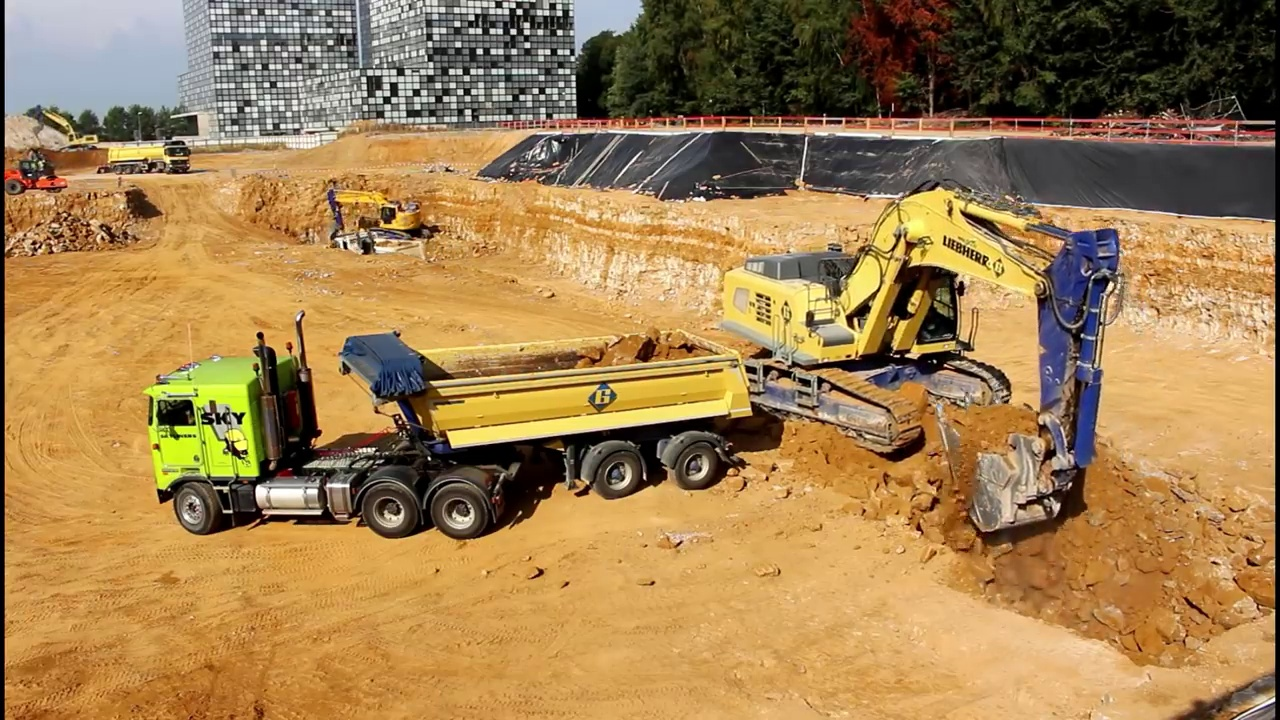compactor: (4, 154, 71, 199)
excavator: (711, 174, 1135, 544), (319, 182, 435, 252), (33, 103, 99, 155)
truck: (142, 307, 757, 544), (330, 221, 428, 288), (102, 133, 195, 181)
